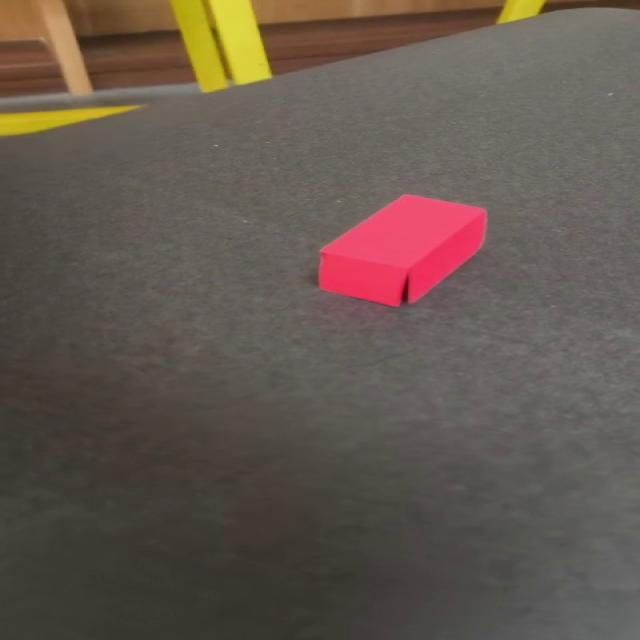red block: (316, 192, 488, 308)
